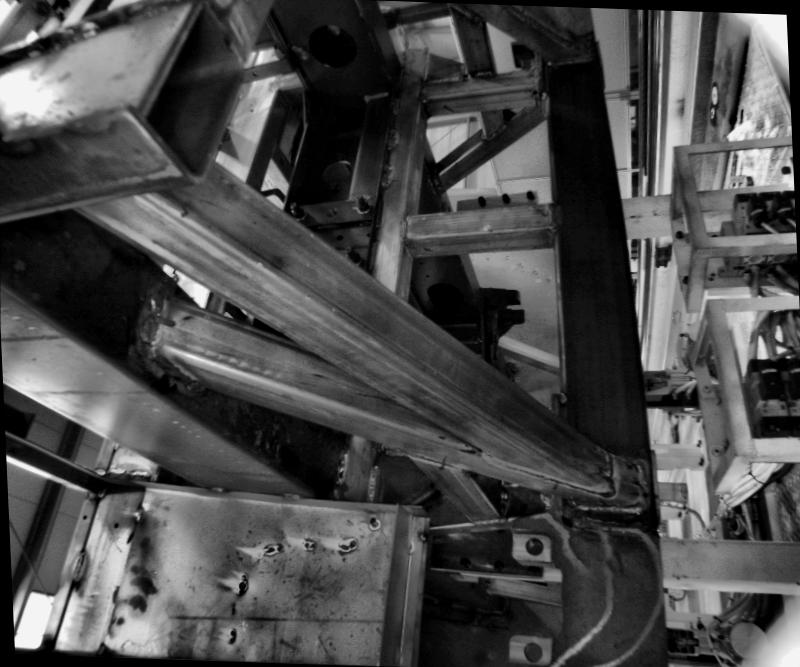bolt: (352, 192, 372, 214), (284, 198, 304, 218), (338, 244, 358, 264)
bracket: (473, 280, 528, 368)
hole: (423, 279, 468, 316), (519, 640, 541, 660), (520, 537, 543, 555), (148, 312, 172, 329), (322, 203, 338, 215), (110, 520, 118, 529), (334, 232, 342, 240), (80, 510, 86, 519), (406, 243, 414, 249), (422, 272, 426, 276), (419, 262, 422, 266)
welding: (140, 291, 172, 355), (565, 498, 653, 515), (636, 460, 652, 511), (67, 547, 86, 582), (602, 447, 614, 496), (544, 202, 560, 228), (376, 162, 391, 183), (202, 483, 224, 497), (397, 213, 406, 241), (383, 127, 395, 146), (276, 491, 301, 500), (390, 96, 398, 114), (133, 507, 142, 518)
